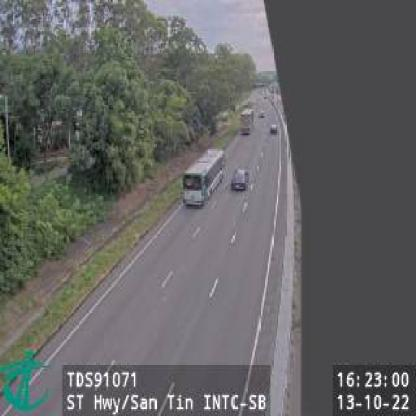Bus: (182, 148, 226, 208), (240, 107, 254, 134)
Car: (231, 167, 249, 194), (270, 122, 278, 134)
